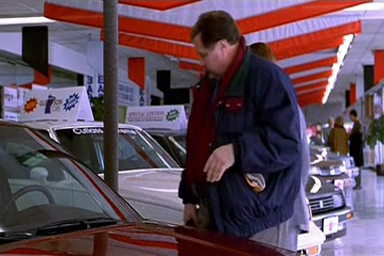face: (194, 47, 220, 77)
ms: (1, 1, 384, 256)
person: (178, 10, 312, 256)
